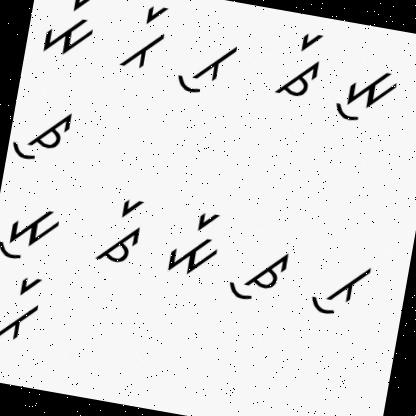bar: (115, 0, 178, 77), (0, 268, 47, 346)
baw: (304, 242, 378, 326), (173, 31, 242, 101)
car: (270, 20, 332, 106), (90, 190, 152, 272)
caw: (224, 236, 294, 312), (8, 97, 78, 168)
mar: (157, 202, 228, 288), (37, 0, 106, 66)
maw: (328, 49, 404, 132), (0, 188, 66, 269)
